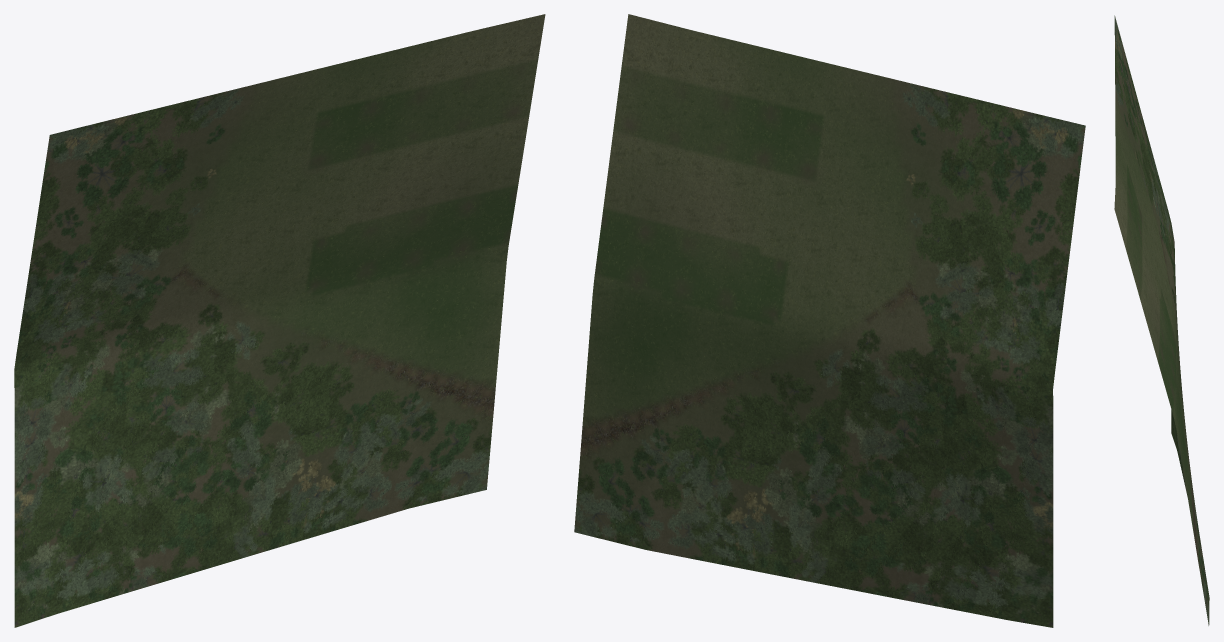
Rendered from terrain_core_01_01.obj.
3 views of the same model, side by side, from view 1: azimuth 30°, elevation 25°; view 2: azimuth 150°, elevation 25°; view 3: azimuth 270°, elevation 25° (orthographic). The views are drawn at different scales.
Visible parts, largest first — view 1: terrain_core_01_01; view 2: terrain_core_01_01; view 3: terrain_core_01_01.
Boxes of the visible parts, x1=… form: terrain_core_01_01: x1=14, y1=14, x2=545, y2=627; terrain_core_01_01: x1=574, y1=14, x2=1085, y2=627; terrain_core_01_01: x1=1114, y1=15, x2=1209, y2=625.
Size of the model in its own units: 32 by 32 by 6.59.
1 material, 1 textured.
